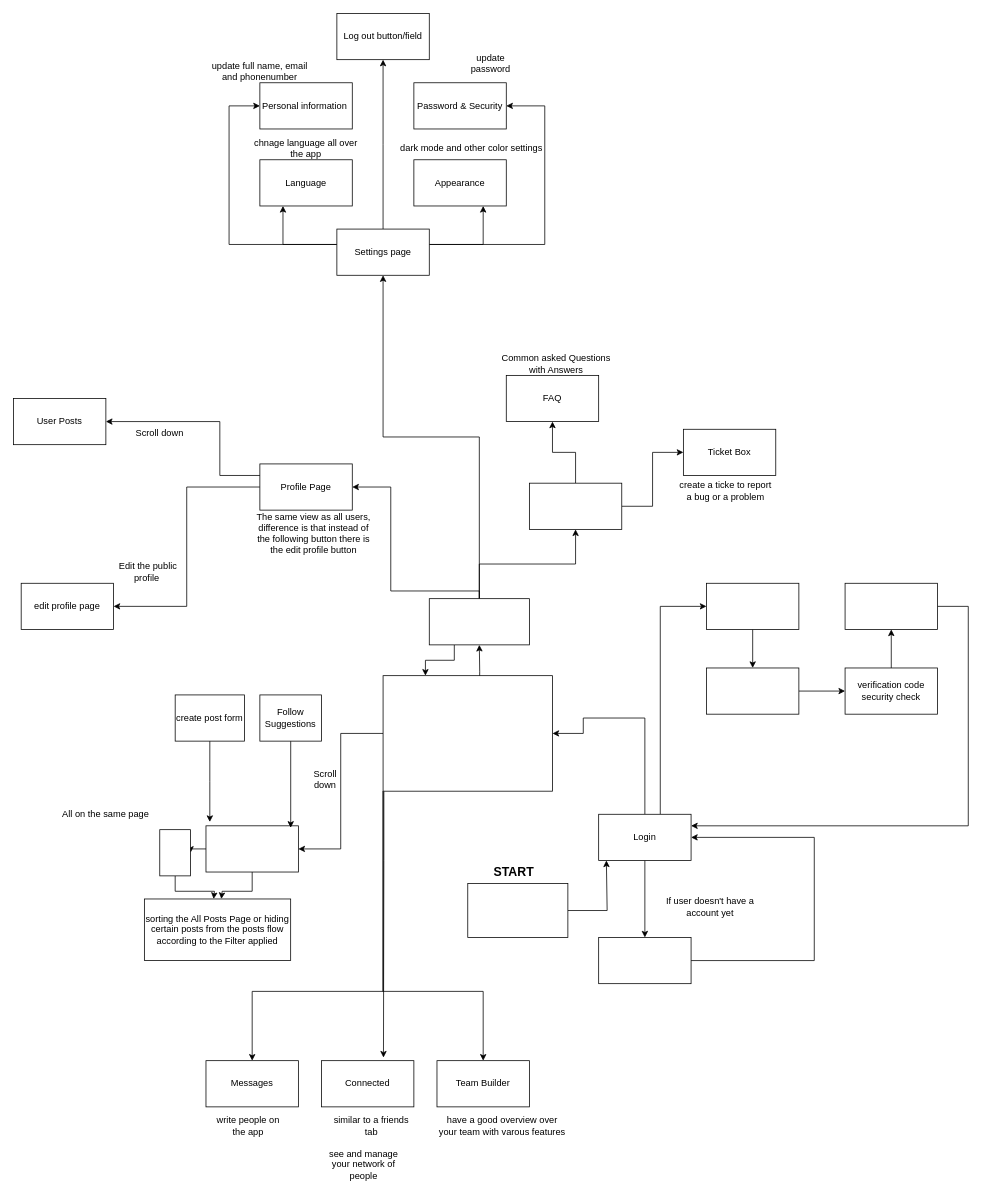
The diagram is 988 pixels wide and 1194 high, and some of its shapes have lost their labels. The centre of each missing label's shape, as x and y in pixels:
"All Posts" belongs at [251,848].
"Contact Page" belongs at [575,505].
"email for account to reset password" belongs at [752,690].
"Filter" belongs at [175,852].
"Forgot Password" belongs at [752,606].
"Homepage for Users with all features" belongs at [467,733].
"Homepage for vistors" belongs at [517,910].
"Navbar / always on top" belongs at [479,621].
"Signup" belongs at [644,960].
"update password for the account" belongs at [890,606].
